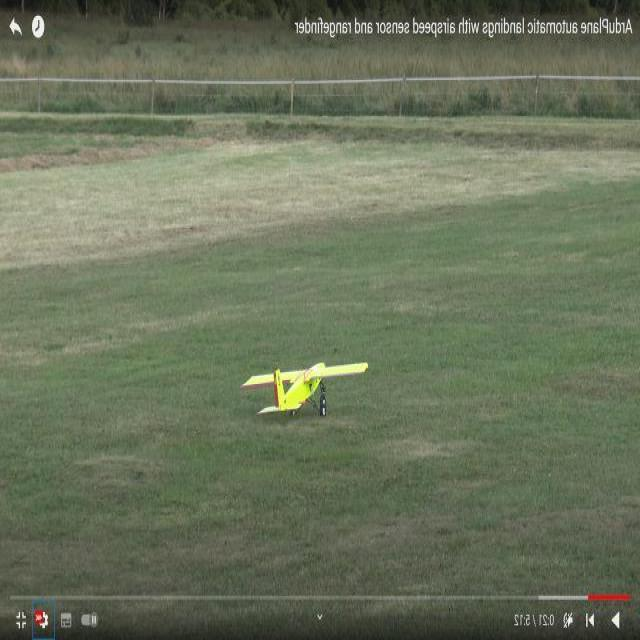UAV: (208, 328, 374, 456)
